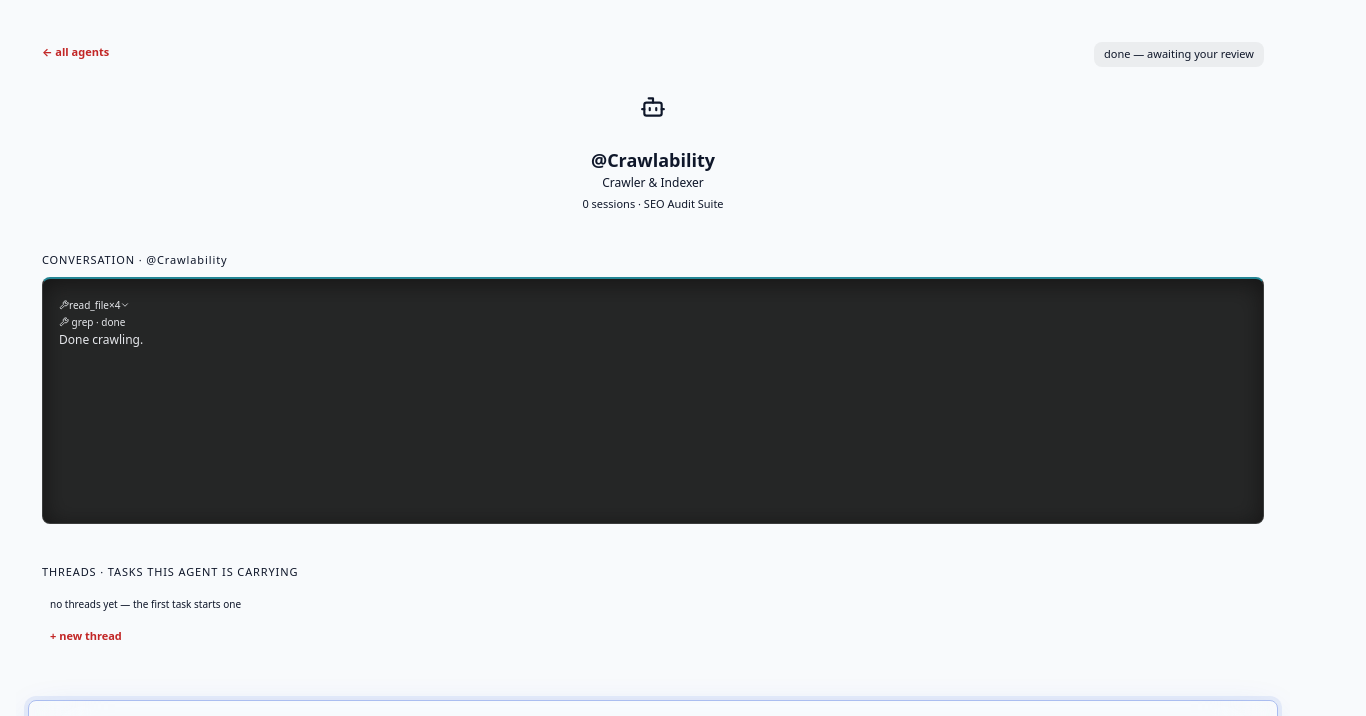
it: AgentsWindow · execution (v13 exact DOM) › same-name repeats collapse per name; distinct tools never merge
The width and height of the screenshot is (1366, 716).
Expected: the text "grep · done" is shown, [59, 315, 125, 329]
Click the button "read_file×4" at (95, 304), box [59, 296, 130, 312]
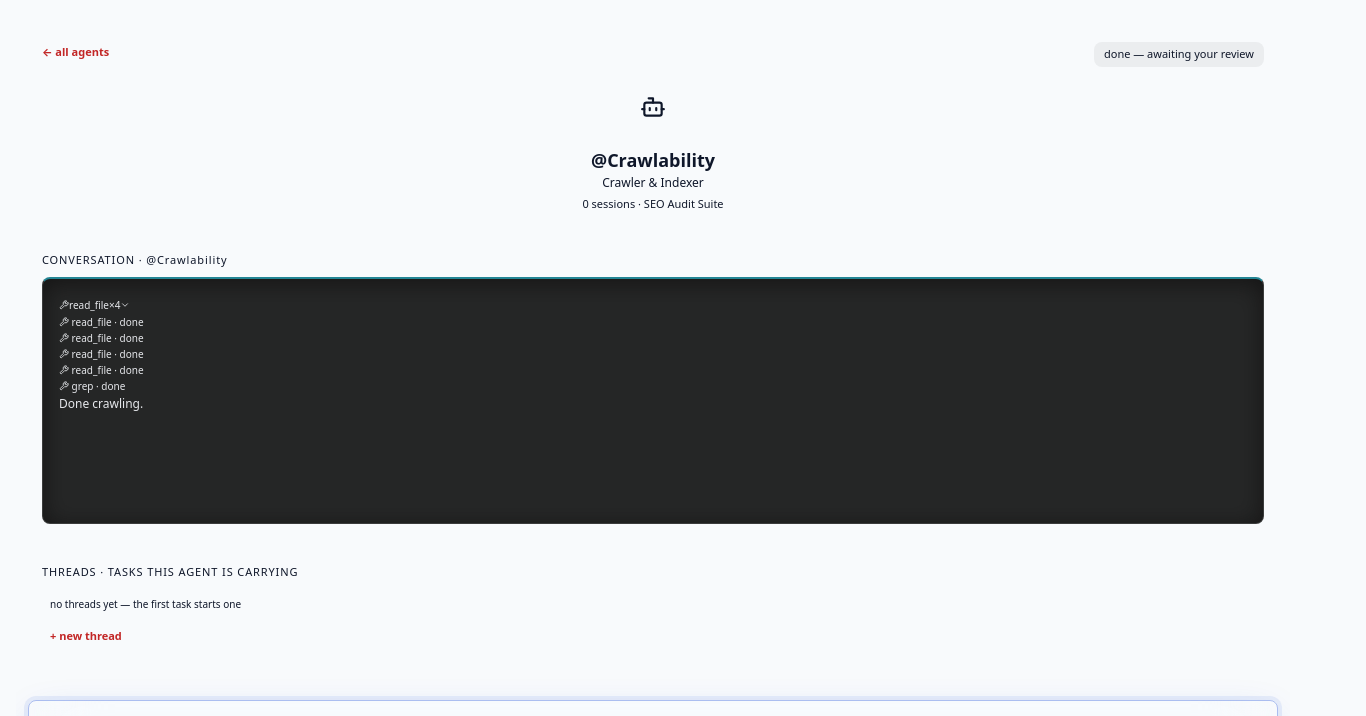
Expected: the text "read_file · done" is shown 4 times, [59, 315, 144, 329]; [59, 331, 144, 345]; [59, 347, 144, 361]; [59, 363, 144, 377]
